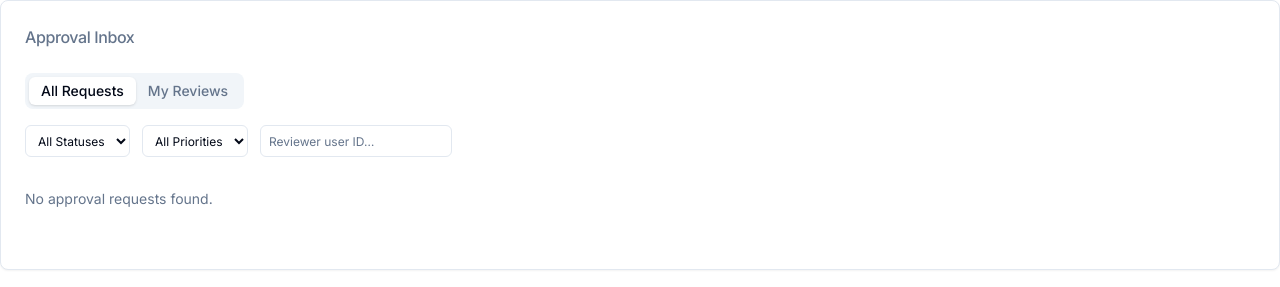
Test case: ApprovalInbox › filters › hides clear button after clearing filters
The width and height of the screenshot is (1280, 287).
Select "Pending" in the dropdown with test id "filter-status" at (78,141), box top-left (25, 125), bottom-right (130, 157)
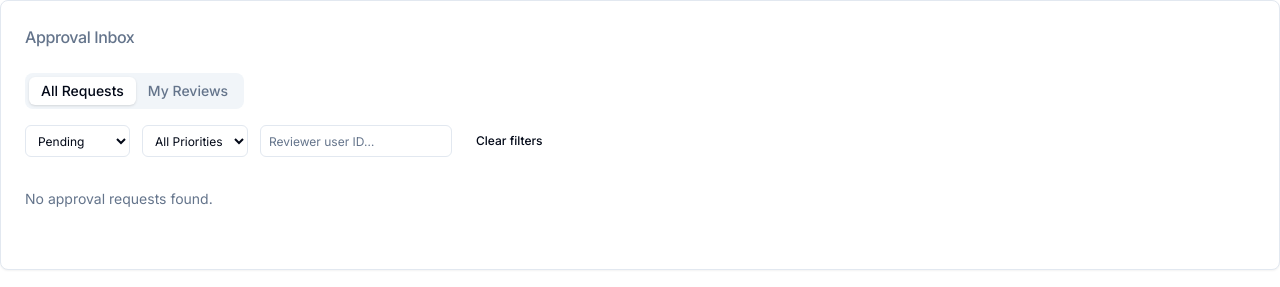
Click the button with test id "clear-filters-btn" at (509,141), box top-left (464, 125), bottom-right (555, 157)
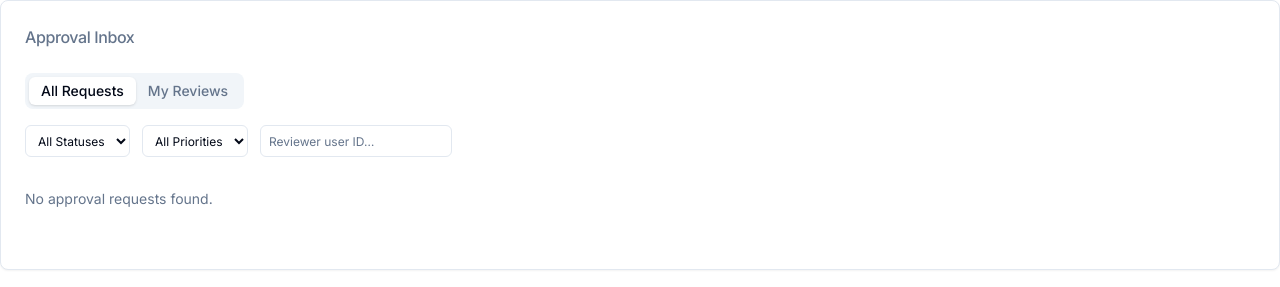
Expected: the button with test id "clear-filters-btn" is gone
